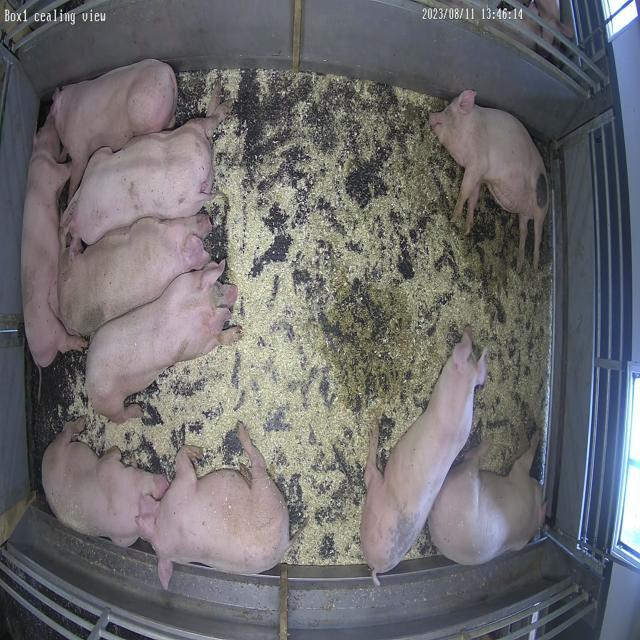Dirt: (324, 278, 413, 414), (465, 192, 516, 290)
Pig: (361, 329, 488, 586), (61, 100, 229, 250), (86, 262, 238, 424), (150, 424, 290, 590), (430, 90, 549, 270), (57, 215, 212, 336), (50, 58, 177, 196), (42, 419, 169, 548), (21, 116, 85, 366), (429, 433, 545, 566)
